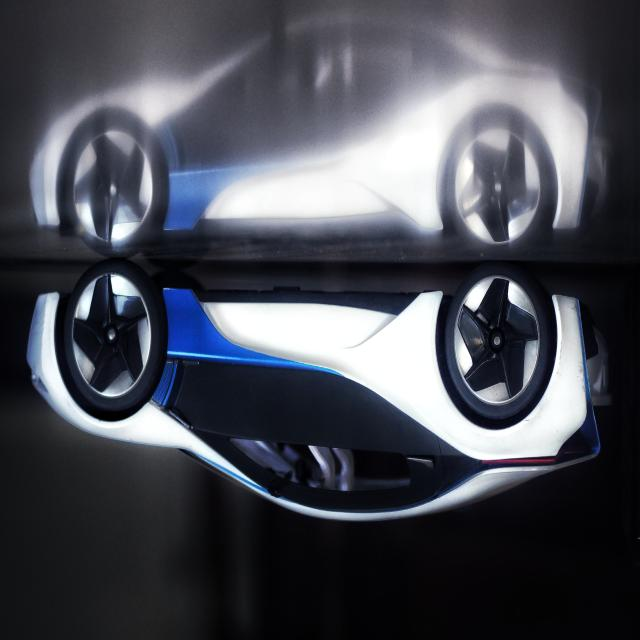Car: (26, 258, 601, 522)
